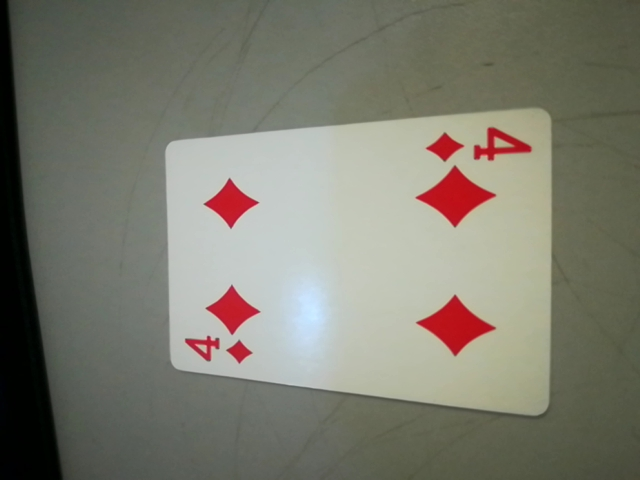fk 4: (422, 125, 536, 169)
